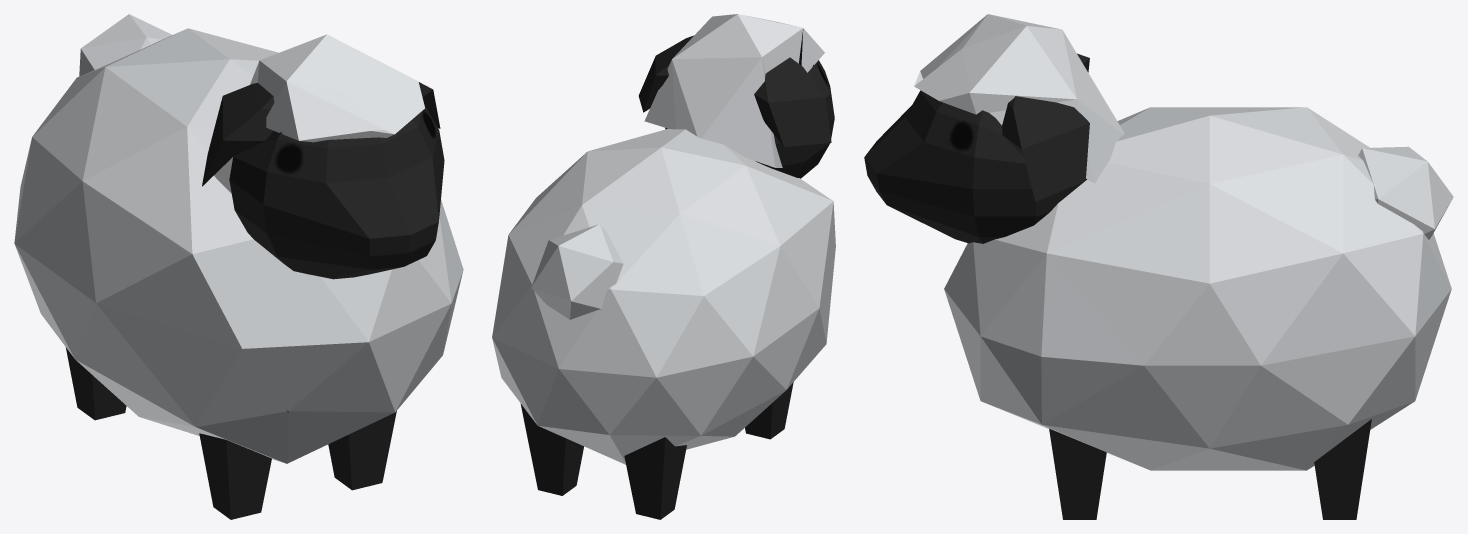
The model's file is mouton.glb.
The picture shows the model from 3 angles, left to right: view 1: azimuth 30°, elevation 25°; view 2: azimuth 150°, elevation 25°; view 3: azimuth 270°, elevation 25°; orthographic projection. The views are drawn at different scales.
Visible parts, largest first — view 1: Icosphère; view 2: Icosphère; view 3: Icosphère.
Part boxes in pixels (x1=…): Icosphère: x1=14, y1=14, x2=463, y2=519; Icosphère: x1=492, y1=14, x2=835, y2=519; Icosphère: x1=864, y1=14, x2=1453, y2=519.
Size of the model in its own units: 1.9 by 2.65 by 3.08.
1 material, 1 textured.
